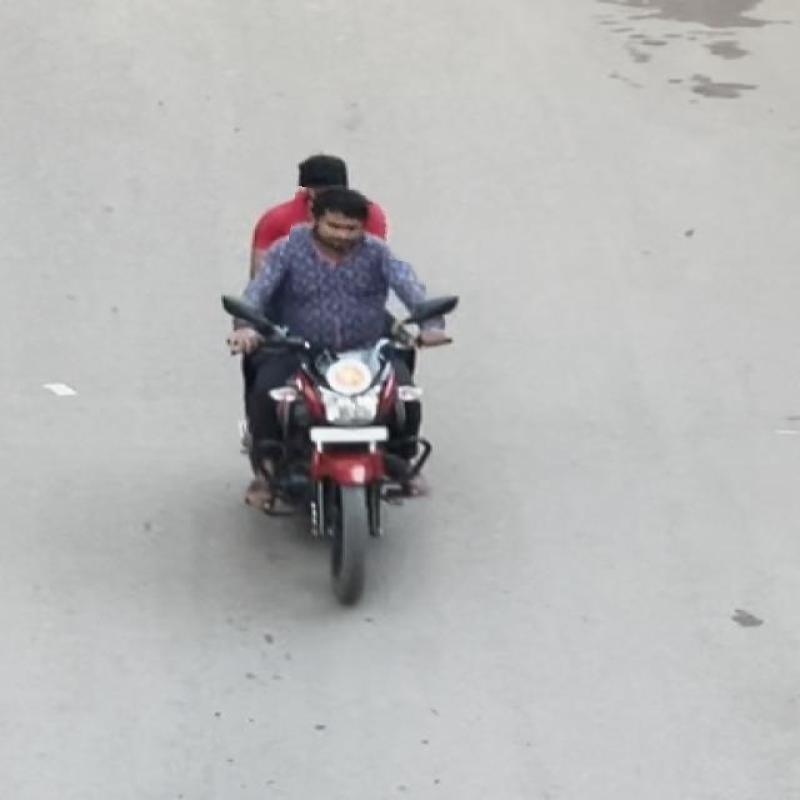nohelmet: (290, 190, 424, 259)
